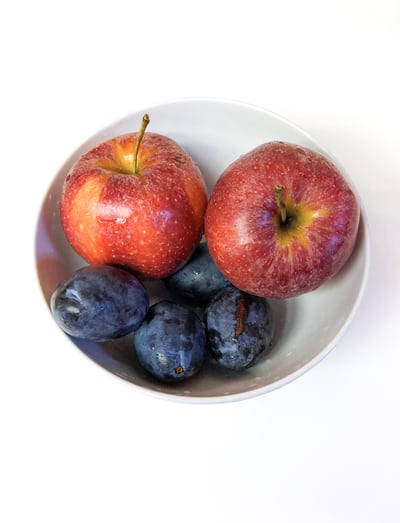apple: (203, 136, 366, 305), (56, 111, 210, 281)
